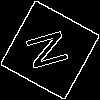N: (25, 25, 79, 73)
